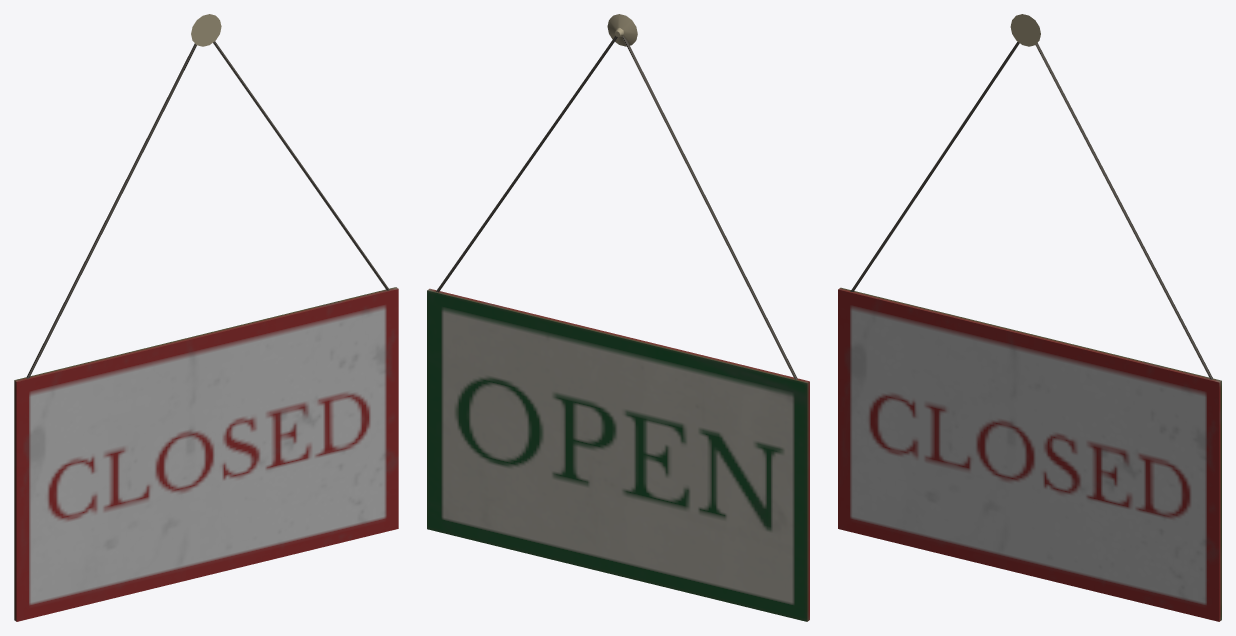
Rendered from Sign_OpenClosed_b.fbx.
3 renders of one model, left to right at view 1: azimuth 30°, elevation 25°; view 2: azimuth 150°, elevation 25°; view 3: azimuth 330°, elevation 25°, orthographic.
Parts seen in each view (by area): view 1: Sign_OpenClosed_b; view 2: Sign_OpenClosed_b; view 3: Sign_OpenClosed_b.
Part boxes in pixels (box(x1,y1,x2,y2)): Sign_OpenClosed_b: box(14, 14, 398, 621); Sign_OpenClosed_b: box(427, 14, 809, 621); Sign_OpenClosed_b: box(838, 14, 1221, 621).
Bounding box in the file's own units: 25 × 35.12 × 0.6.
